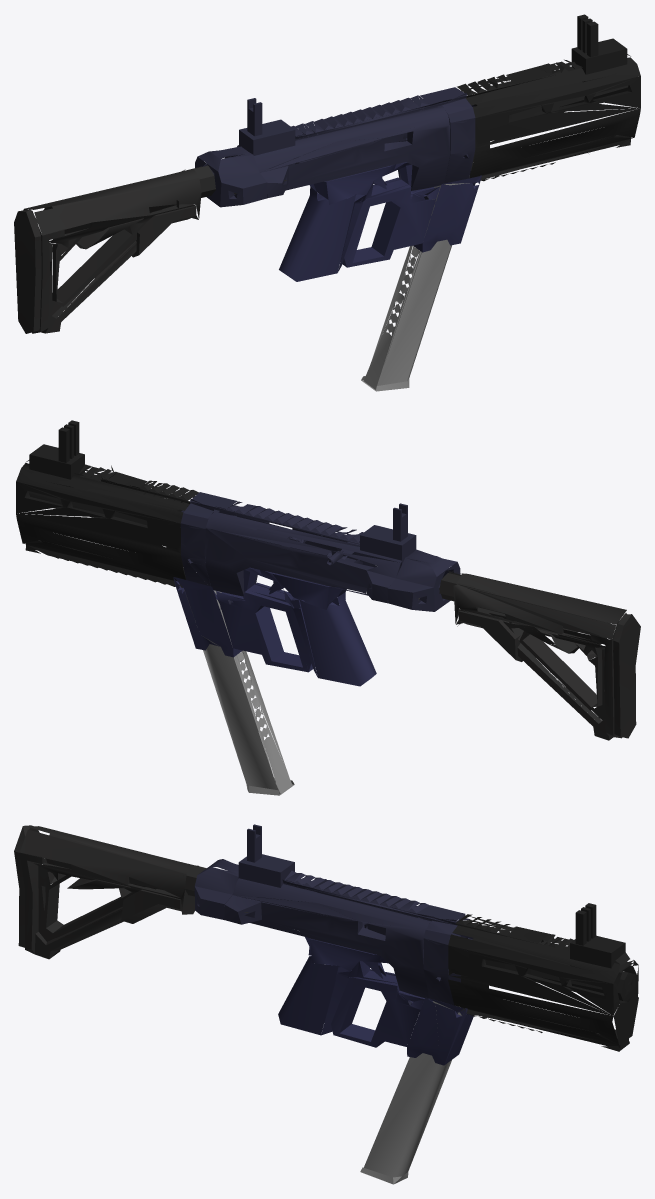
The model's file is GSERIES_ensamblada.glb.
3 renders of one model, top to bottom at view 1: azimuth 30°, elevation 25°; view 2: azimuth 150°, elevation 25°; view 3: azimuth 330°, elevation 25°, orthographic.
Visible parts, largest first — view 1: cuerpo, guardamanos_canon, culata, empunadura, cargador; view 2: cuerpo, guardamanos_canon, culata, empunadura, cargador; view 3: guardamanos_canon, cuerpo, culata, empunadura, cargador.
Boxes of the visible parts, bbox=[...] form: cuerpo: bbox=[195, 87, 475, 207]; guardamanos_canon: bbox=[457, 14, 640, 182]; culata: bbox=[14, 165, 286, 333]; empunadura: bbox=[279, 162, 481, 281]; cargador: bbox=[361, 183, 469, 391]; cuerpo: bbox=[180, 492, 460, 611]; guardamanos_canon: bbox=[16, 420, 198, 587]; culata: bbox=[418, 571, 640, 740]; empunadura: bbox=[173, 567, 376, 686]; cargador: bbox=[184, 590, 294, 795]; guardamanos_canon: bbox=[448, 903, 638, 1051]; cuerpo: bbox=[194, 824, 473, 1005]; culata: bbox=[14, 825, 248, 959]; empunadura: bbox=[278, 937, 473, 1065]; cargador: bbox=[360, 1001, 461, 1184].
Bounding box in the file's own units: 0.6401 × 0.3166 × 0.0791.
